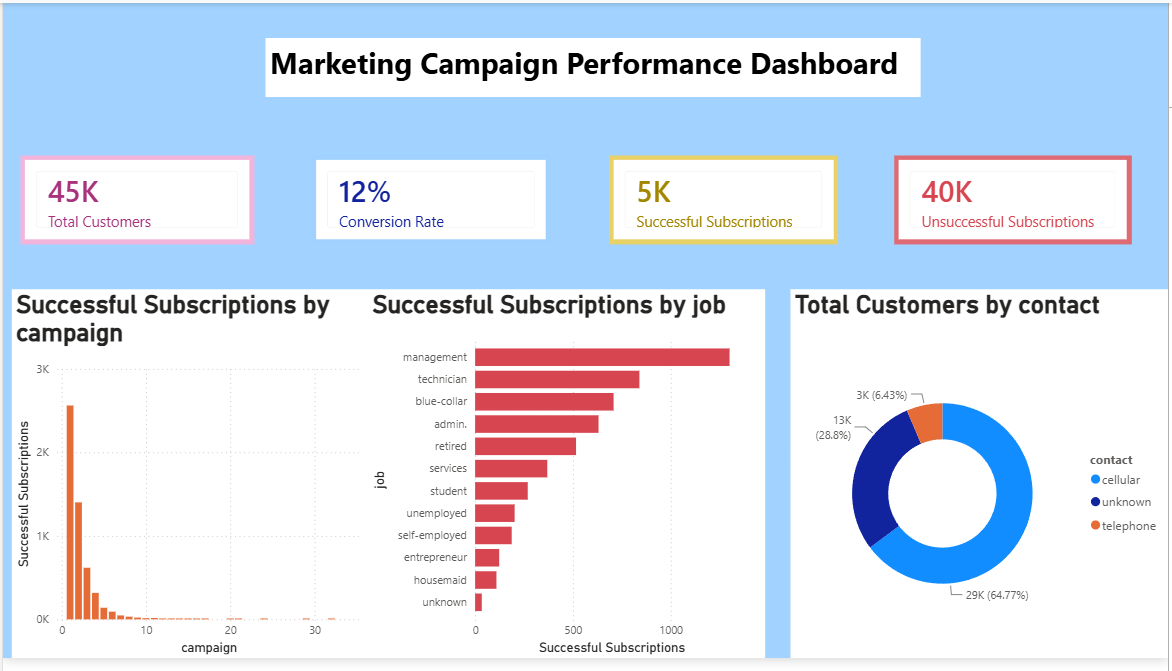

What the dashboard file says about the page in this screenshot:
{"tool":"powerbi","page":{"name":"overview","canvas":[1280,720],"ordinal":0},"visuals":[{"type":"cardVisual","fields":{"Data":["bank-full.Total Customers"]},"box":[19.2,167.4,256.6,97.4],"z":0},{"type":"cardVisual","fields":{"Data":["bank-full.Successful Subscriptions"]},"box":[665.5,167.4,251.1,97.4],"z":1},{"type":"cardVisual","fields":{"Data":["bank-full.Unsuccessful Subscriptions"]},"box":[978.4,167.4,260.7,97.4],"z":2},{"type":"cardVisual","fields":{"Data":["bank-full.Conversion Rate"]},"box":[338.9,167.4,262.1,97.4],"z":3},{"type":"clusteredColumnChart","fields":{"Category":["bank-full.campaign"],"Y":["bank-full.Successful Subscriptions"]},"box":[9.6,314.2,391.1,406.2],"z":4},{"type":"clusteredBarChart","fields":{"Category":["bank-full.job"],"Y":["bank-full.Successful Subscriptions"]},"box":[400.7,314.2,436.4,406.2],"z":5},{"type":"donutChart","fields":{"Y":["bank-full.Total Customers"],"Category":["bank-full.contact"]},"box":[864.5,314.2,415.8,406.2],"z":6},{"type":"textbox","box":[288.2,38.4,719,64.5],"z":7}]}

Visuals, with their boxes in screenshot pixels (x1, y1, x2, y2), scaled from the page's 1280x720 canvas onto the 1172x671 screenshot:
cardVisual - bank-full.Total Customers: x1=18 y1=156 x2=253 y2=247
cardVisual - bank-full.Successful Subscriptions: x1=609 y1=156 x2=839 y2=247
cardVisual - bank-full.Unsuccessful Subscriptions: x1=896 y1=156 x2=1135 y2=247
cardVisual - bank-full.Conversion Rate: x1=310 y1=156 x2=550 y2=247
clusteredColumnChart - bank-full.campaign x bank-full.Successful Subscriptions: x1=9 y1=293 x2=367 y2=670
clusteredBarChart - bank-full.job x bank-full.Successful Subscriptions: x1=367 y1=293 x2=766 y2=670
donutChart - bank-full.Total Customers x bank-full.contact: x1=792 y1=293 x2=1171 y2=670
textbox: x1=264 y1=36 x2=922 y2=96
